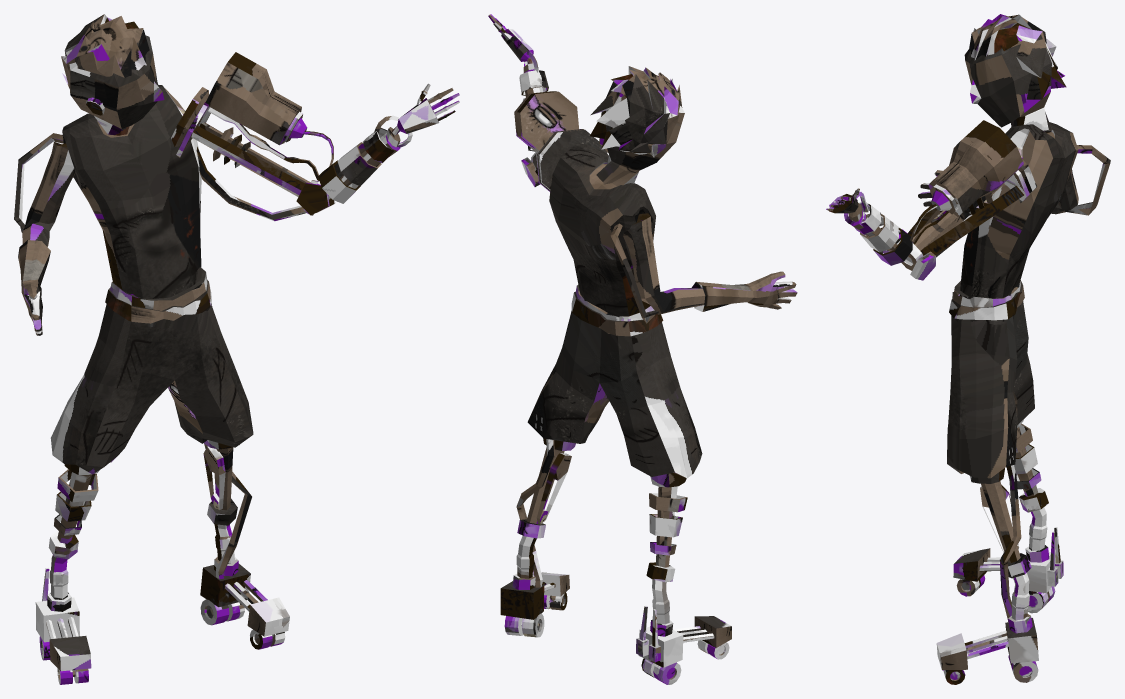
File: CyborgFINALAnimation_000033.obj
3 renders of one model, left to right at view 1: azimuth 30°, elevation 25°; view 2: azimuth 150°, elevation 25°; view 3: azimuth 270°, elevation 25°, orthographic. The views are drawn at different scales.
Parts seen in each view (by area): view 1: CyborgMesh_Cube.002; view 2: CyborgMesh_Cube.002; view 3: CyborgMesh_Cube.002.
Part boxes in pixels (x1,y1,x2,y2): CyborgMesh_Cube.002: (14, 14, 459, 684); CyborgMesh_Cube.002: (488, 14, 797, 684); CyborgMesh_Cube.002: (826, 14, 1110, 684).
Size of the model in its own units: 5.89 by 9.53 by 4.04.
